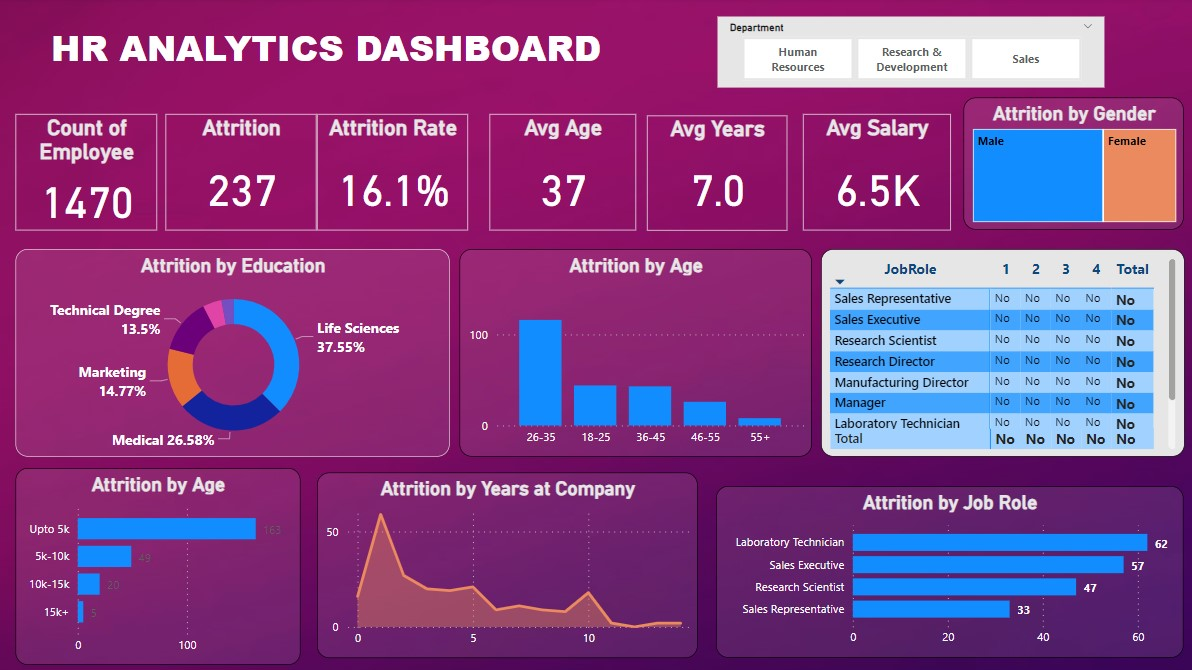

This screenshot's page, from the dashboard's own definition file:
{"tool":"powerbi","page":{"name":"Dashboard Page","canvas":[1280,720],"ordinal":0},"visuals":[{"type":"card","title":"Count of Employee","fields":{"Values":["CountNonNull(HR_Analytics.EmpID)"]},"box":[23.3,123.3,150,123.3],"z":0},{"type":"card","title":"Attrition Rate","fields":{"Values":["HR_Analytics.AttritionRate"]},"box":[343.3,123.3,160,123.3],"z":1000},{"type":"card","title":"Avg Age","fields":{"Values":["Avg(HR_Analytics.Age)"]},"box":[526.7,123.3,155,123.3],"z":2000},{"type":"card","title":"Avg Years","fields":{"Values":["Avg(HR_Analytics.YearsAtCompany)"]},"box":[693.3,125,148.3,121.7],"z":3000},{"type":"card","title":"Avg Salary","fields":{"Values":["Avg(HR_Analytics.MonthlyIncome)"]},"box":[858.3,123.3,156.7,123.3],"z":4000},{"type":"card","title":"Attrition","fields":{"Values":["Sum(HR_Analytics.AttritionCount)"]},"box":[183.3,123.3,160,123.3],"z":5000},{"type":"donutChart","title":"Attrition by Education","fields":{"Category":["HR_Analytics.EducationField"],"Y":["Sum(HR_Analytics.AttritionCount)"]},"box":[23.3,266.7,460,220],"z":6000},{"type":"columnChart","title":"Attrition by Age","fields":{"Y":["Sum(HR_Analytics.AttritionCount)"],"Category":["HR_Analytics.AgeGroup"]},"box":[495,266.7,373.3,220],"z":7000},{"type":"pivotTable","fields":{"Rows":["HR_Analytics.JobRole"],"Columns":["HR_Analytics.JobSatisfaction"],"Values":["Min(HR_Analytics.Attrition)"]},"box":[876.7,266.7,385,220],"z":8000},{"type":"clusteredBarChart","title":"Attrition by Age","fields":{"Category":["HR_Analytics.SalarySlab"],"Y":["Sum(HR_Analytics.AttritionCount)"]},"box":[23.3,498.3,301.7,208.3],"z":9000},{"type":"clusteredBarChart","title":"Attrition by Job Role","fields":{"Category":["HR_Analytics.JobRole"],"Y":["Sum(HR_Analytics.AttritionCount)"]},"box":[766.7,518.3,495,181.7],"z":10000},{"type":"areaChart","title":"Attrition by Years at Company","fields":{"Category":["HR_Analytics.YearsAtCompany"],"Y":["Sum(HR_Analytics.AttritionCount)"]},"box":[343.3,503.3,403.3,196.7],"z":11000},{"type":"treemap","title":"Attrition by Gender","fields":{"Group":["HR_Analytics.Gender"],"Values":["Sum(HR_Analytics.AttritionCount)"]},"box":[1028.3,106.7,233.3,140],"z":12000},{"type":"slicer","fields":{"Values":["HR_Analytics.Department"]},"box":[768.3,20,410,75],"z":13000},{"type":"textbox","box":[23.3,20,658.3,75],"z":14000}]}

Visuals, with their boxes in screenshot pixels (x1, y1, x2, y2), scaled from the page's 1280x720 canvas onto the 1192x670 screenshot:
"Count of Employee" card: pyautogui.locateOnScreen(22, 115, 161, 229)
"Attrition Rate" card: pyautogui.locateOnScreen(320, 115, 469, 229)
"Avg Age" card: pyautogui.locateOnScreen(490, 115, 635, 229)
"Avg Years" card: pyautogui.locateOnScreen(646, 116, 784, 230)
"Avg Salary" card: pyautogui.locateOnScreen(799, 115, 945, 229)
"Attrition" card: pyautogui.locateOnScreen(171, 115, 320, 229)
"Attrition by Education" donutChart: pyautogui.locateOnScreen(22, 248, 450, 453)
"Attrition by Age" columnChart: pyautogui.locateOnScreen(461, 248, 809, 453)
pivotTable - HR_Analytics.JobRole x HR_Analytics.JobSatisfaction: pyautogui.locateOnScreen(816, 248, 1175, 453)
"Attrition by Age" clusteredBarChart: pyautogui.locateOnScreen(22, 464, 303, 658)
"Attrition by Job Role" clusteredBarChart: pyautogui.locateOnScreen(714, 482, 1175, 651)
"Attrition by Years at Company" areaChart: pyautogui.locateOnScreen(320, 468, 695, 651)
"Attrition by Gender" treemap: pyautogui.locateOnScreen(958, 99, 1175, 230)
slicer - HR_Analytics.Department: pyautogui.locateOnScreen(715, 19, 1097, 88)
textbox: pyautogui.locateOnScreen(22, 19, 635, 88)
